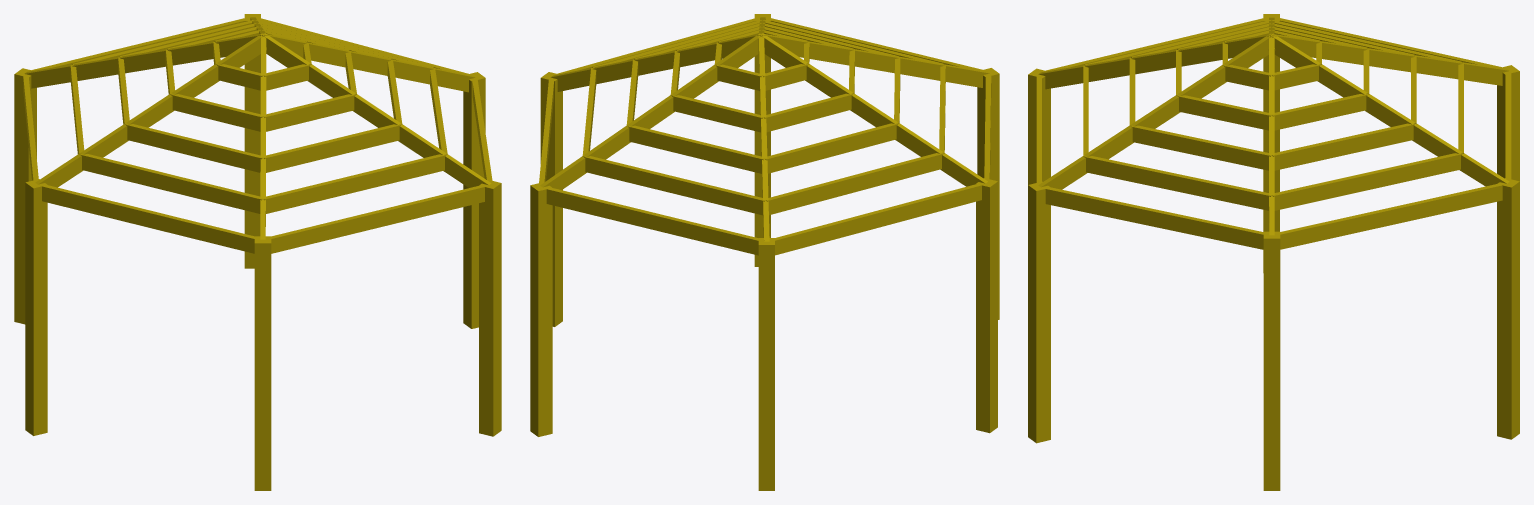
Rendered from timber_pergola_3d_model.glb.
3 views of the same model, side by side, from view 1: azimuth 30°, elevation 25°; view 2: azimuth 150°, elevation 25°; view 3: azimuth 270°, elevation 25° (orthographic). The views are drawn at different scales.
Parts seen in each view (by area): view 1: Layers; view 2: Layers; view 3: Layers.
Part boxes in pixels (x1,y1,x2,y2): Layers: (14,14,501,490); Layers: (530,14,999,490); Layers: (1028,14,1519,490).
Size of the model in its own units: 4.78 by 3.45 by 4.42.
